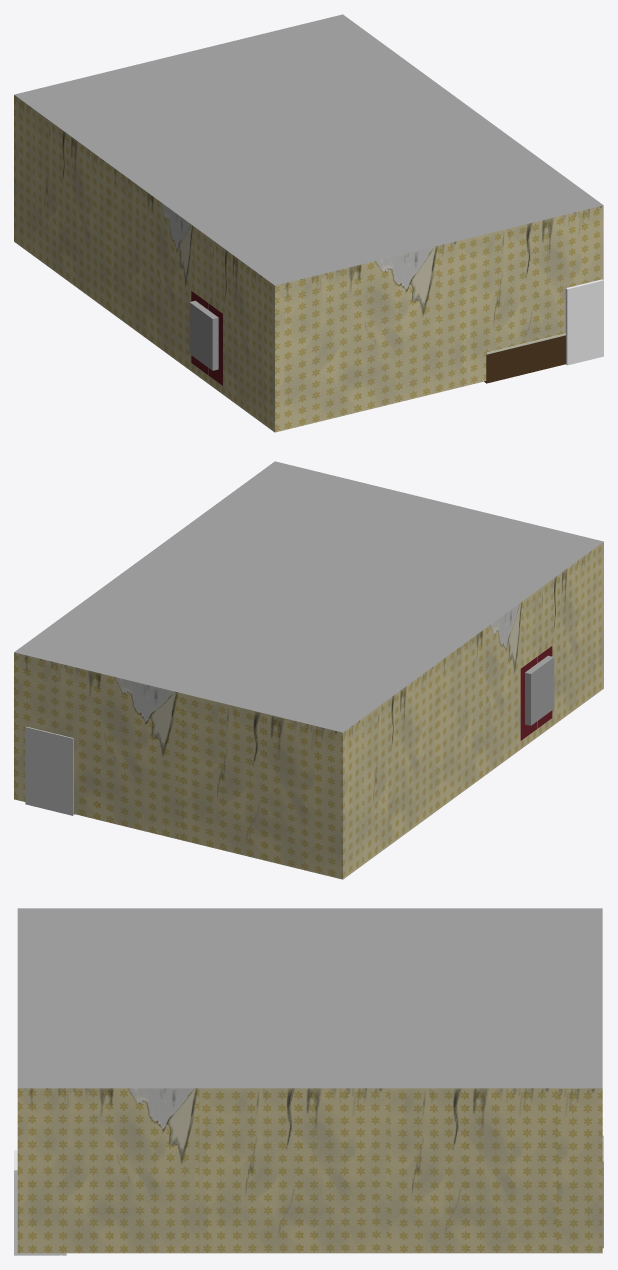
Rendered from Apartment V1 export 2.fbx.
3 views of the same model, one above another, from view 1: azimuth 30°, elevation 25°; view 2: azimuth 150°, elevation 25°; view 3: azimuth 270°, elevation 25° (orthographic). The views are drawn at different scales.
Visible parts, largest first — view 1: pCube1, pCube6, pCube7, pCube13; view 2: pCube1, pCube2, pCube13, pCube16; view 3: pCube1, pCube6.
Boxes of the visible parts, x1,y1,x2,y2 form: pCube1: (14,14,603,432); pCube6: (565,279,603,365); pCube7: (484,333,565,383); pCube13: (189,300,218,370); pCube1: (14,461,603,879); pCube2: (25,726,74,815); pCube13: (525,655,554,725); pCube16: (520,657,537,740); pCube1: (17,908,602,1253); pCube6: (14,1150,66,1255).
Bounding box in the file's own units: 46.15 × 19.71 × 62.78.
Materials: 8 (2 with a texture image).
